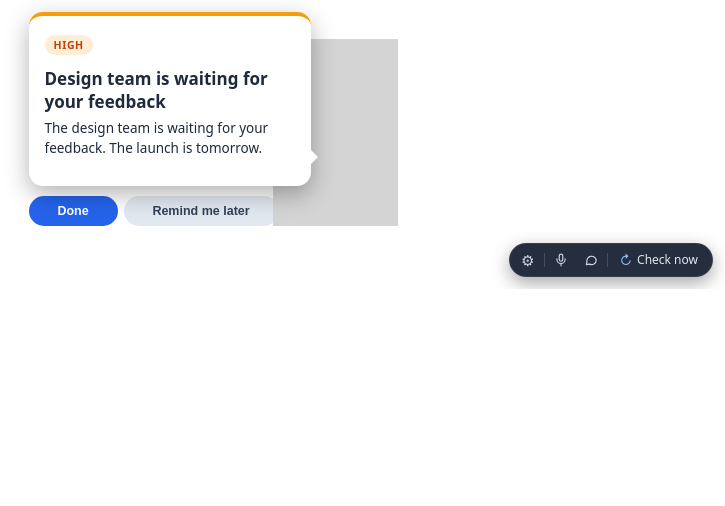
Test: desktop overlay › chat with Zara (ADR-006 M2) › New chat clears the conversation; history reopens an old one
expect the element with test id "intervention-card" is shown: met, box [28,12,398,226]
Click the button named "Chat with Zara" at (591,260), box [577,247,605,273]
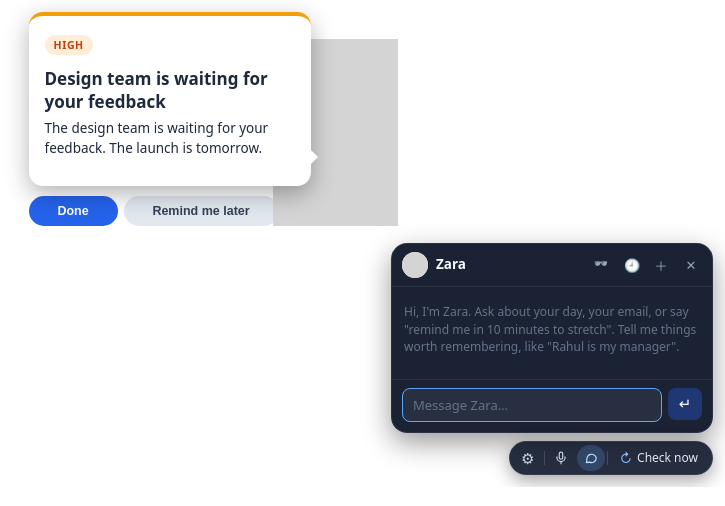
Type "hi" into the field labelled "Message Zara" at (532,405), box [402,388,662,422]
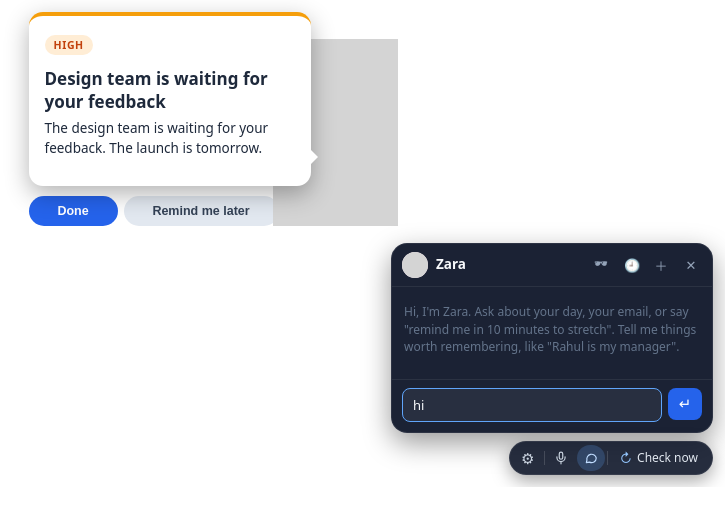
Press Enter in the field named "Message Zara", box [402,388,662,422]
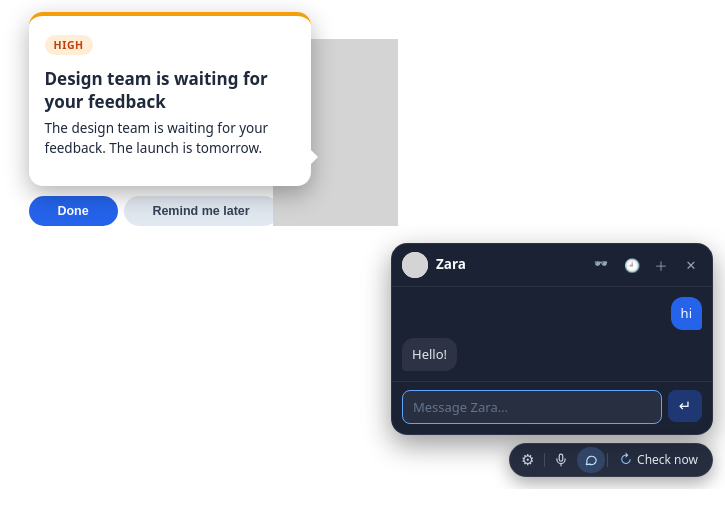
expect the text "Hello!" is shown: met, box [402,338,457,371]
Click the button named "New chat" at (661,265), box [648,252,674,278]
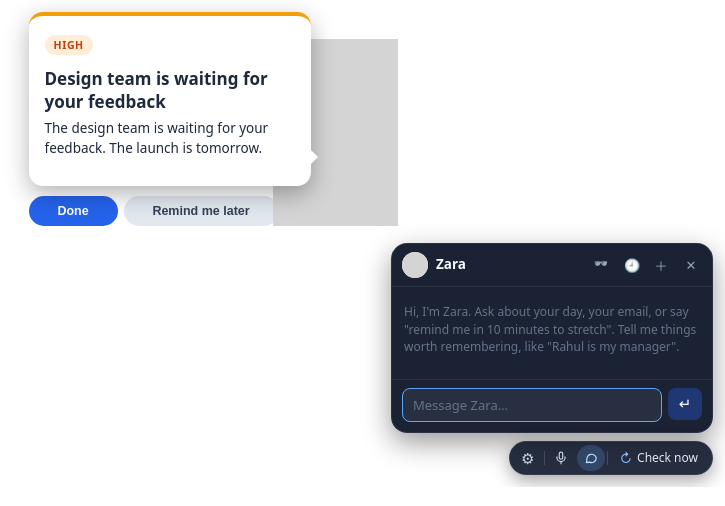
expect the text "Hello!" is gone: met
Click the button named "Chat history" at (631,265), box [618,252,644,278]
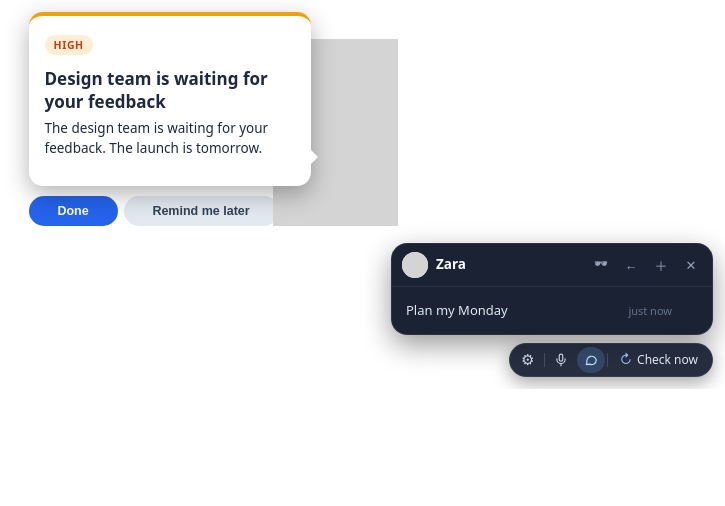
Click the text "Plan my Monday" at (457,310), box [406,301,508,320]
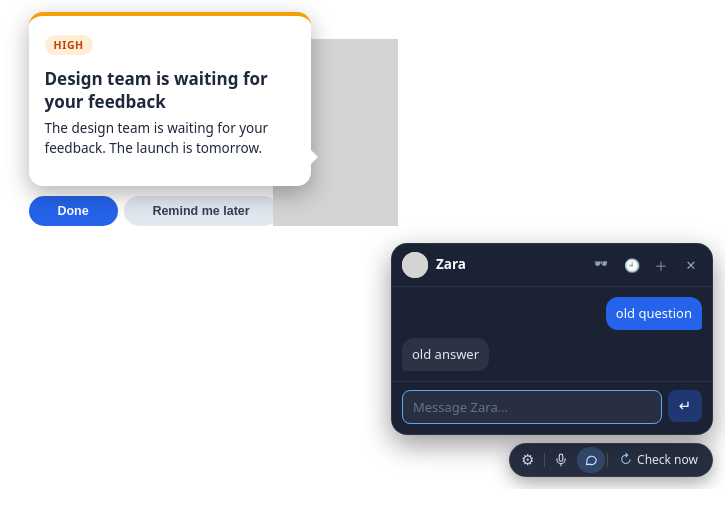
expect the text "old answer" is shown: met, box [402,338,489,371]
